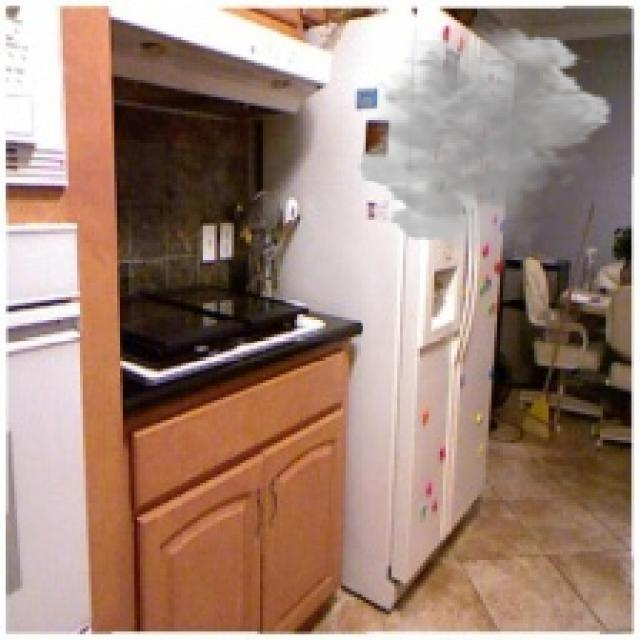smoke: (354, 23, 614, 254)
